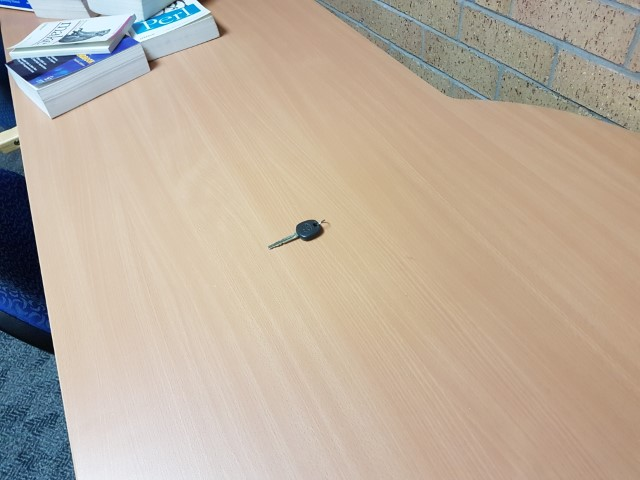key: (268, 217, 323, 251)
